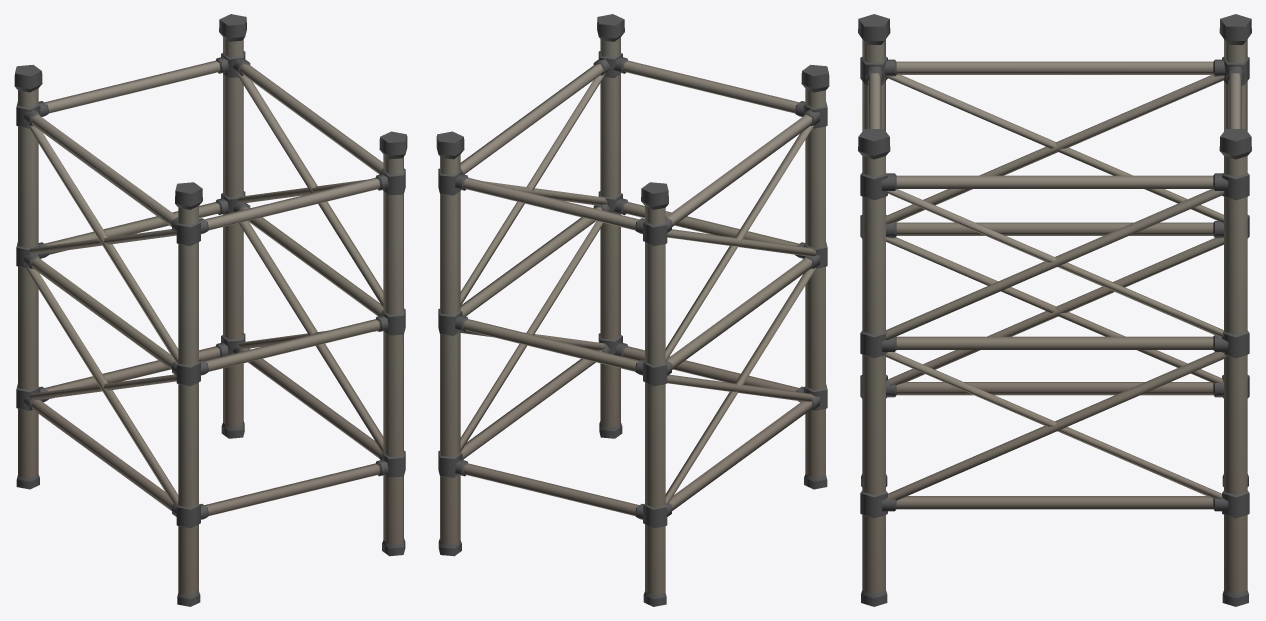
Rendered from Scaffolding_A_2.fbx.
The picture shows the model from 3 angles, left to right: view 1: azimuth 30°, elevation 25°; view 2: azimuth 150°, elevation 25°; view 3: azimuth 270°, elevation 25°; orthographic projection. The views are drawn at different scales.
Visible parts, largest first — view 1: Scaffolding_A_2; view 2: Scaffolding_A_2; view 3: Scaffolding_A_2.
Boxes of the visible parts, left/top/right/bottom form: Scaffolding_A_2: left=14, top=14, right=407, bottom=606; Scaffolding_A_2: left=436, top=14, right=829, bottom=606; Scaffolding_A_2: left=858, top=14, right=1251, bottom=606.
Size of the model in its own units: 167 by 285 by 218.
